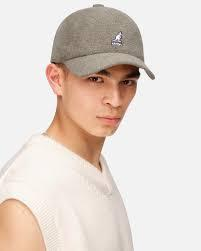cap: (47, 1, 163, 88)
